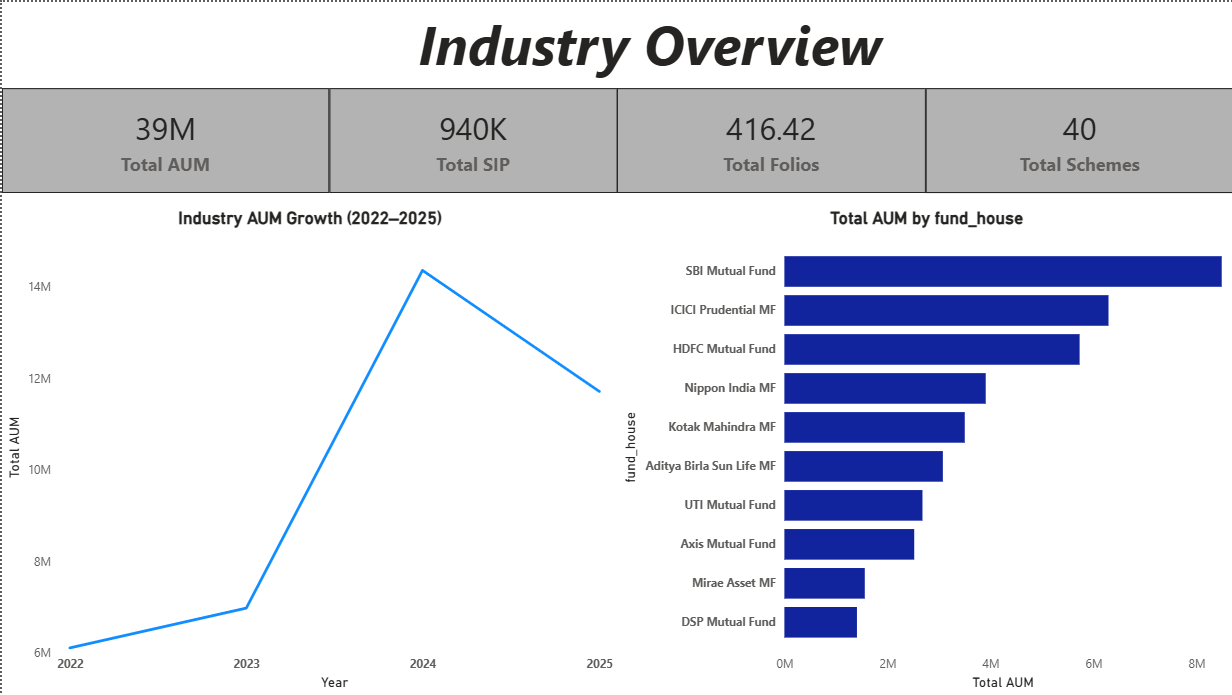

This screenshot's page, from the dashboard's own definition file:
{"tool":"powerbi","page":{"name":"Industry Overview","canvas":[1280,720],"ordinal":0},"visuals":[{"type":"card","fields":{"Values":["AUM.Total AUM"]},"box":[0,89.2,340.3,108.4],"z":0},{"type":"card","fields":{"Values":["AUM.Total SIP"]},"box":[340.3,89.2,299.1,108.4],"z":1000},{"type":"card","fields":{"Values":["AUM.Total Folios"]},"box":[639.5,89.2,321.1,108.4],"z":2000},{"type":"lineChart","title":"Industry AUM Growth (2022–2025)","fields":{"Category":["AUM.date.Variation.Date Hierarchy.Year"],"Y":["AUM.Total AUM"]},"box":[0,214.7,639.7,505.9],"z":3000},{"type":"clusteredBarChart","fields":{"Category":["AUM.fund_house"],"Y":["AUM.Total AUM"]},"box":[639.7,214.7,641.2,505.9],"z":4000},{"type":"textbox","box":[142.7,0,1060.7,89.2],"z":5000},{"type":"card","fields":{"Values":["AUM.Total Schemes"]},"box":[960.3,89.7,320.6,108.8],"z":6000}]}

Visuals, with their boxes in screenshot pixels (x1, y1, x2, y2), scaled from the page's 1280x720 canvas onto the 1232x695 screenshot:
card - AUM.Total AUM: 0 86 328 191
card - AUM.Total SIP: 328 86 615 191
card - AUM.Total Folios: 616 86 925 191
"Industry AUM Growth (2022–2025)" lineChart: 0 207 616 694
clusteredBarChart - AUM.fund_house x AUM.Total AUM: 616 207 1231 694
textbox: 137 0 1158 86
card - AUM.Total Schemes: 924 87 1231 192
